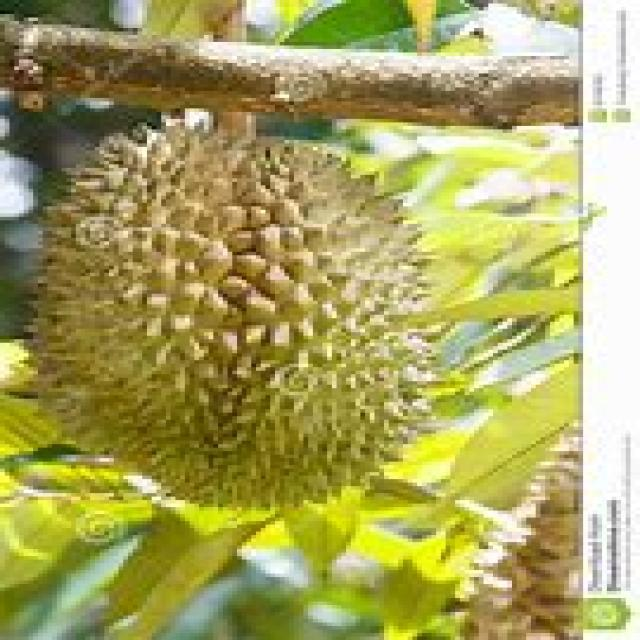mature: (42, 129, 429, 507)
